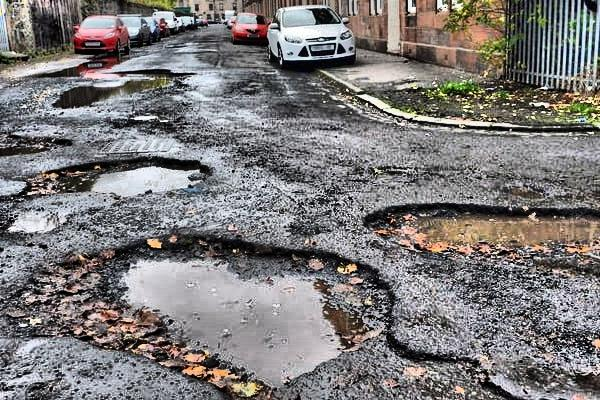pothole: (103, 231, 399, 393), (362, 198, 600, 261), (31, 152, 215, 204), (2, 129, 71, 159)
